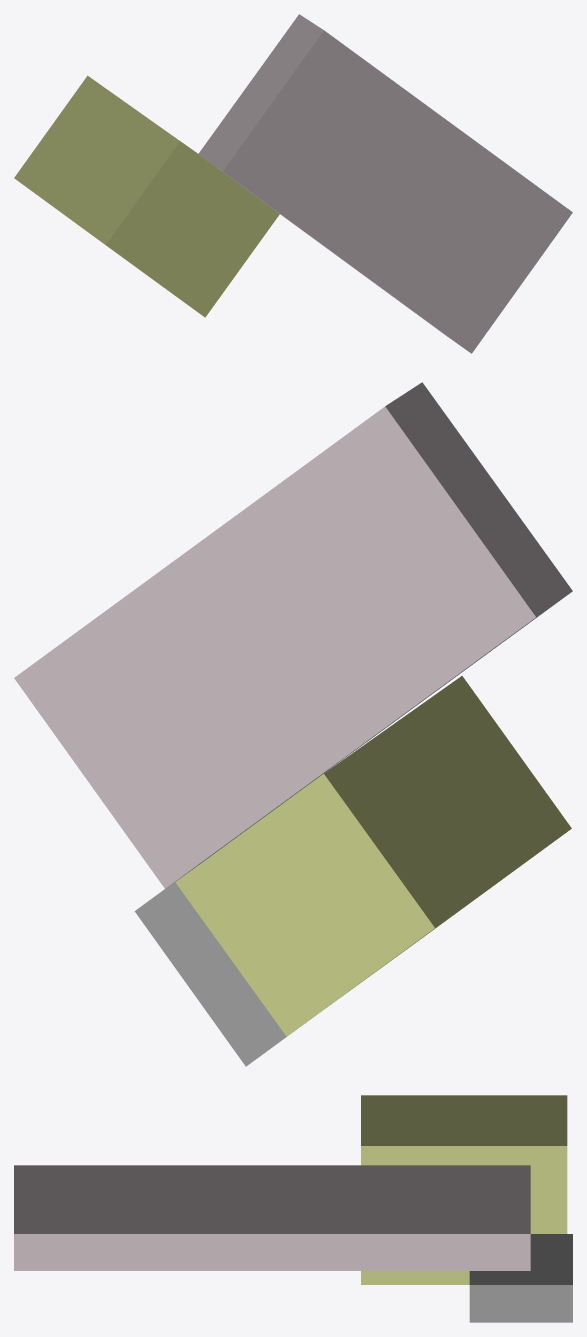
The picture shows the model from 3 angles, top to bottom: view 1: azimuth 30°, elevation 25°; view 2: azimuth 150°, elevation 25°; view 3: azimuth 270°, elevation 25°; orthographic projection. The views are drawn at different scales.
Visible parts, largest first — view 1: 0_2_3_2_2_0_2_1_3_2_0; view 2: 0_2_3_2_2_0_2_1_3_2_0; view 3: 0_2_3_2_2_0_2_1_3_2_0.
Part boxes in pixels (left/top/right/bottom): 0_2_3_2_2_0_2_1_3_2_0: left=14, top=14, right=572, bottom=353; 0_2_3_2_2_0_2_1_3_2_0: left=14, top=382, right=572, bottom=1066; 0_2_3_2_2_0_2_1_3_2_0: left=14, top=1095, right=572, bottom=1322.
Size of the model in its own units: 10.17 by 7.48 by 16.23.
